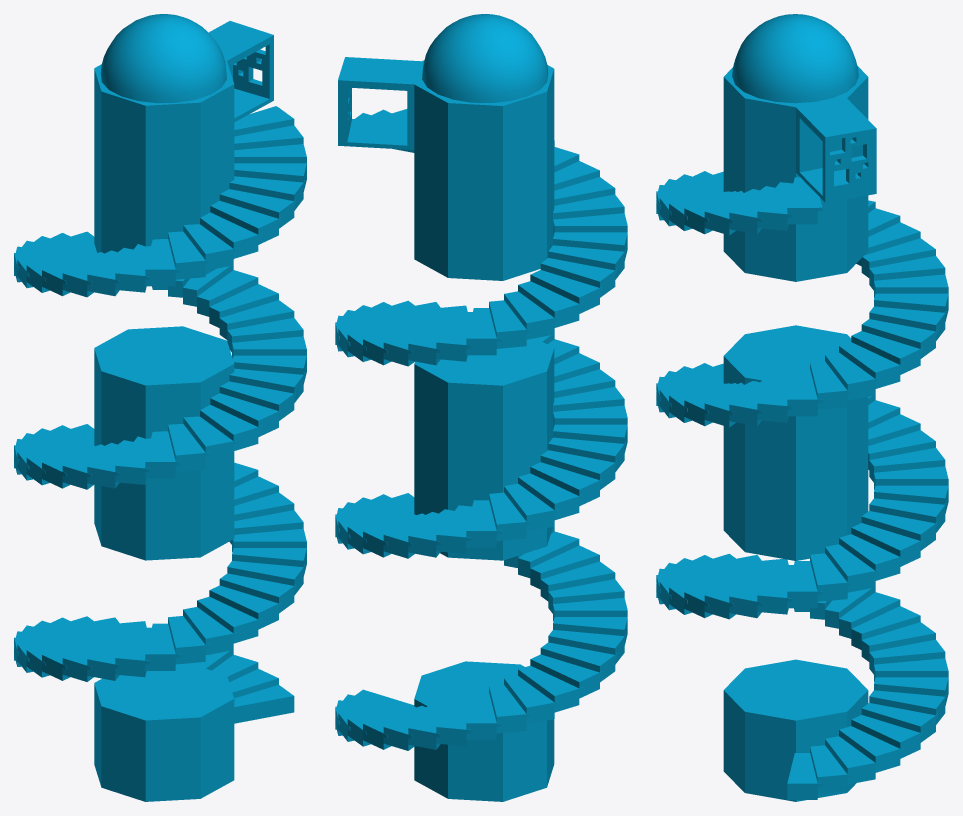
Rendered from Light_house_Fixed_Mesh.fbx.
The picture shows the model from 3 angles, left to right: view 1: azimuth 30°, elevation 25°; view 2: azimuth 150°, elevation 25°; view 3: azimuth 270°, elevation 25°; orthographic projection.
Parts seen in each view (by area): view 1: pPipe92, polySurface13, polySurface6, polySurface5, pSphere1; view 2: pPipe92, polySurface6, polySurface13, polySurface5, pSphere1; view 3: pPipe92, polySurface13, polySurface6, polySurface5, pSphere1.
Boxes of the visible parts, x1=… form: pPipe92: x1=14, y1=106, x2=306, y2=723; polySurface13: x1=94, y1=326, x2=234, y2=560; polySurface6: x1=94, y1=21, x2=273, y2=277; polySurface5: x1=94, y1=663, x2=234, y2=801; pSphere1: x1=100, y1=14, x2=226, y2=103; pPipe92: x1=335, y1=109, x2=627, y2=750; polySurface6: x1=338, y1=57, x2=554, y2=280; polySurface13: x1=414, y1=338, x2=554, y2=560; polySurface5: x1=414, y1=661, x2=554, y2=801; pSphere1: x1=422, y1=14, x2=548, y2=102; pPipe92: x1=656, y1=171, x2=948, y2=799; polySurface13: x1=723, y1=325, x2=868, y2=560; polySurface6: x1=723, y1=66, x2=876, y2=281; polySurface5: x1=723, y1=659, x2=868, y2=801; pSphere1: x1=732, y1=14, x2=858, y2=103.
Size of the model in its own units: 4.13 by 11.74 by 4.14.
